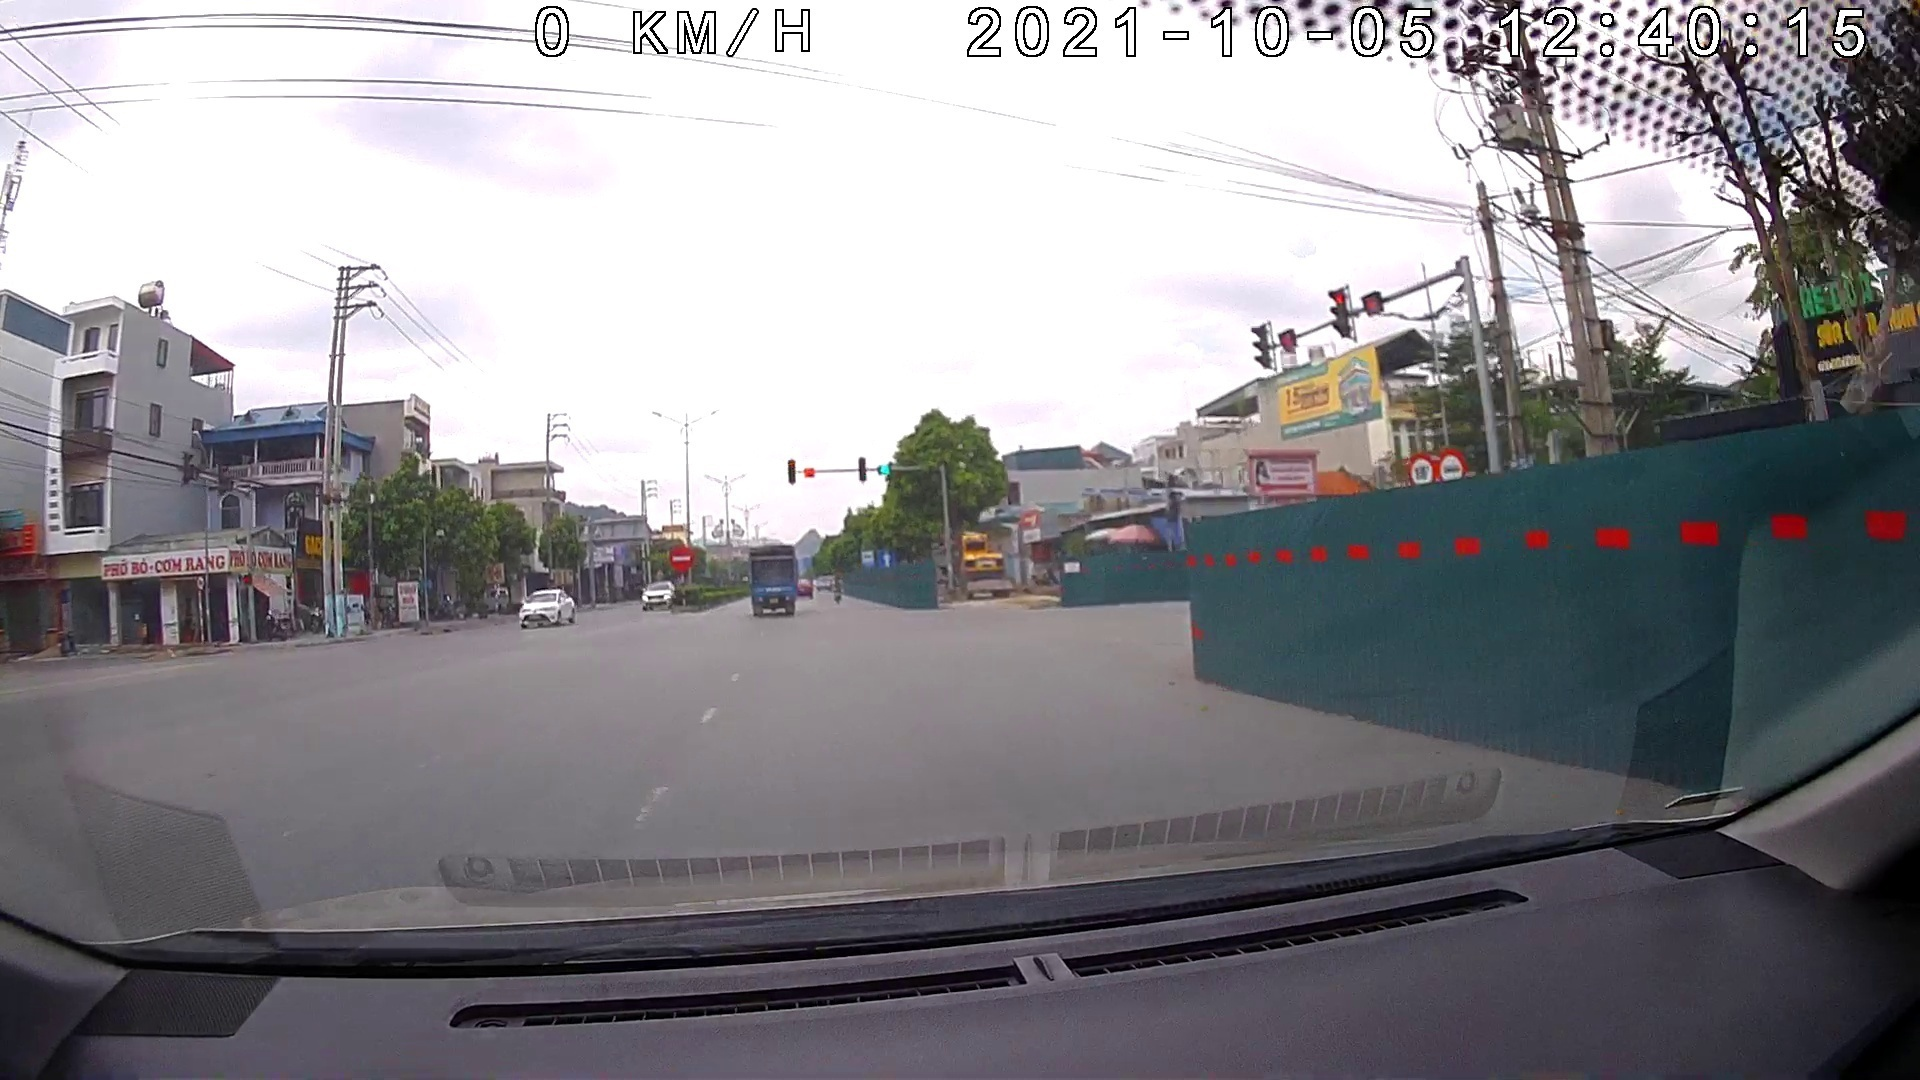Bien khac: (1407, 451, 1433, 485), (1439, 448, 1464, 481), (876, 549, 897, 567), (858, 549, 873, 566)
Cam di nguoc chieu: (669, 546, 692, 571)
